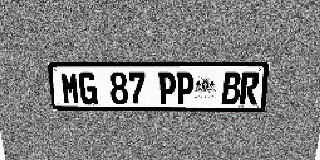7: (128, 72, 146, 104)
8: (110, 72, 128, 104)
B: (221, 72, 241, 105)
G: (78, 72, 98, 104)
M: (60, 72, 80, 104)
P: (158, 72, 176, 105), (176, 72, 194, 105)
R: (239, 72, 260, 105)
